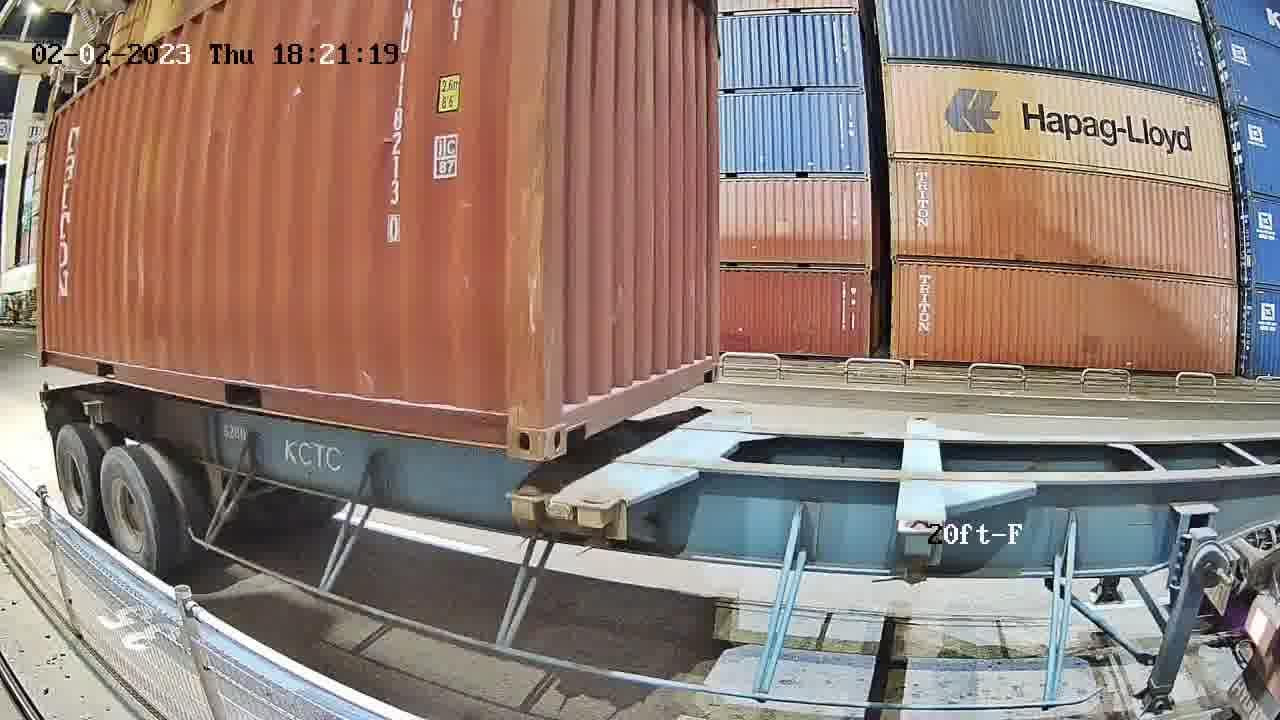Chassis: (513, 406, 710, 501), (580, 408, 750, 510)
Cone: (579, 495, 618, 553), (510, 485, 544, 540)
Hole_L: (540, 381, 595, 461)
Hole_R: (473, 388, 540, 460), (700, 344, 722, 385)
Tire: (101, 451, 154, 569), (55, 431, 98, 536)
